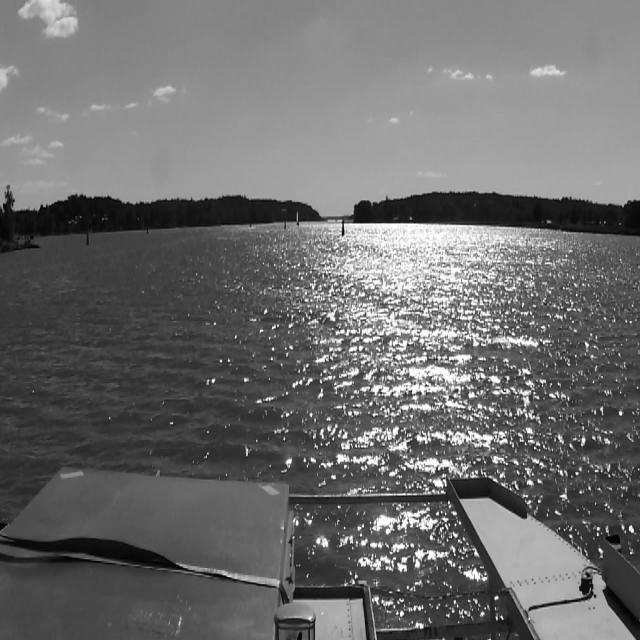buoy: (340, 217, 346, 239), (84, 227, 90, 248), (145, 222, 149, 236), (284, 217, 286, 232)
ship: (248, 220, 252, 230)
